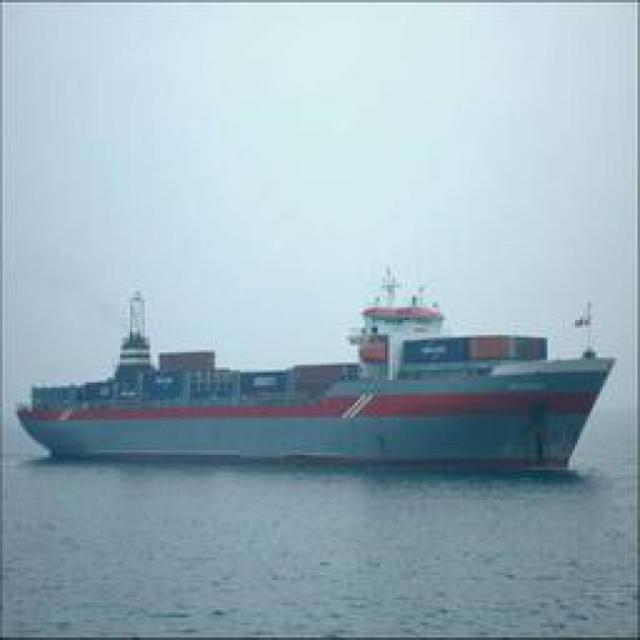boat: (17, 290, 618, 477)
